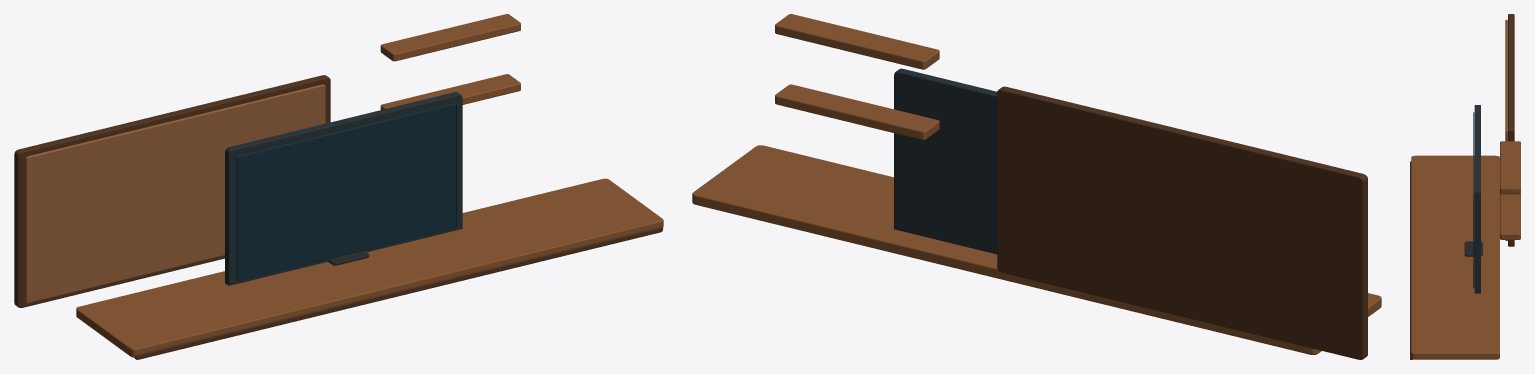
Rendered from room-furnishings.glb.
The picture shows the model from 3 angles, left to right: view 1: azimuth 30°, elevation 25°; view 2: azimuth 150°, elevation 25°; view 3: azimuth 270°, elevation 25°; orthographic projection. The views are drawn at different scales.
Visible parts, largest first — view 1: BoardFace, DeskTop, ScreenSeat, BoardFrame, MonitorBody, DeskFrontEdge, Shelf1, Shelf2; view 2: BoardFrame, DeskTop, MonitorBody, Shelf1, Shelf2; view 3: DeskTop, MonitorBody, Shelf1, Shelf2, BoardFrame, DeskFrontEdge, BoardFace, ScreenSeat, MonitorFoot.
Boxes of the visible parts, x1,y1,x2,y2 form: BoardFace: (25,84,325,303); DeskTop: (76,178,663,357); ScreenSeat: (236,103,456,281); BoardFrame: (14,75,330,307); MonitorBody: (225,92,462,285); DeskFrontEdge: (135,226,662,359); Shelf1: (380,14,520,61); Shelf2: (380,74,520,109); BoardFrame: (997,86,1367,359); DeskTop: (692,145,1381,354); MonitorBody: (894,68,997,254); Shelf1: (775,14,939,69); Shelf2: (775,84,939,139); DeskTop: (1411,155,1499,359); MonitorBody: (1474,105,1480,293); Shelf1: (1500,141,1520,194); Shelf2: (1500,193,1520,239); BoardFrame: (1508,14,1514,246); DeskFrontEdge: (1410,161,1412,359); BoardFace: (1505,19,1507,240); ScreenSeat: (1473,112,1474,288); MonitorFoot: (1464,241,1482,256).
Bounding box in the file's own units: 12.71 × 3.86 × 2.75.
